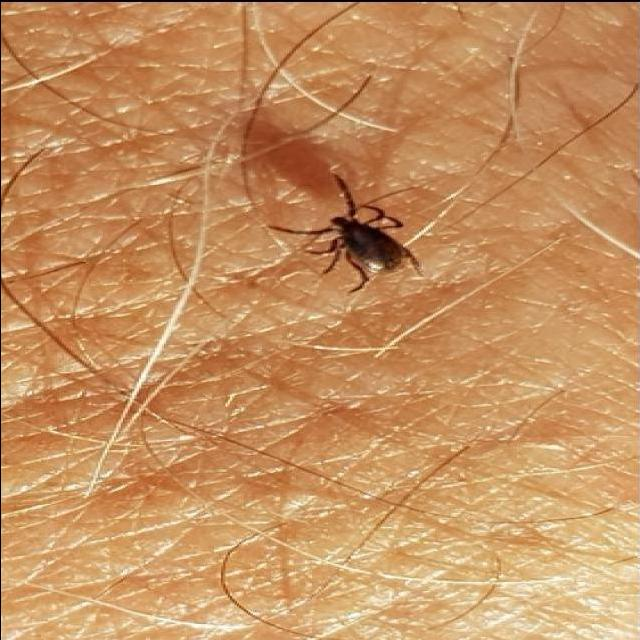Ixodes Ricinus-M: (273, 169, 419, 284)
